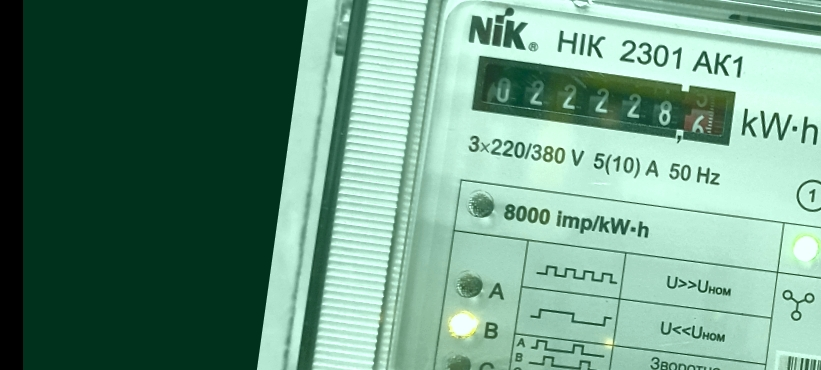0: (493, 73, 513, 103)
2: (526, 75, 549, 107), (625, 90, 646, 120), (592, 84, 613, 113), (560, 80, 580, 110)
5: (693, 87, 712, 109)
6: (690, 110, 709, 133)
8: (656, 96, 675, 126)
screen: (463, 42, 748, 155)
